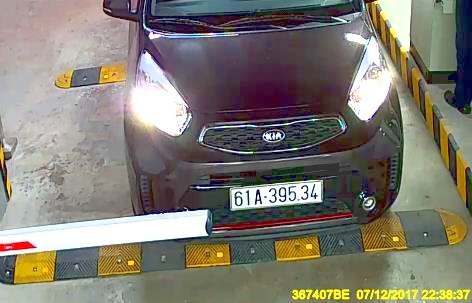plate: (228, 181, 324, 207)
